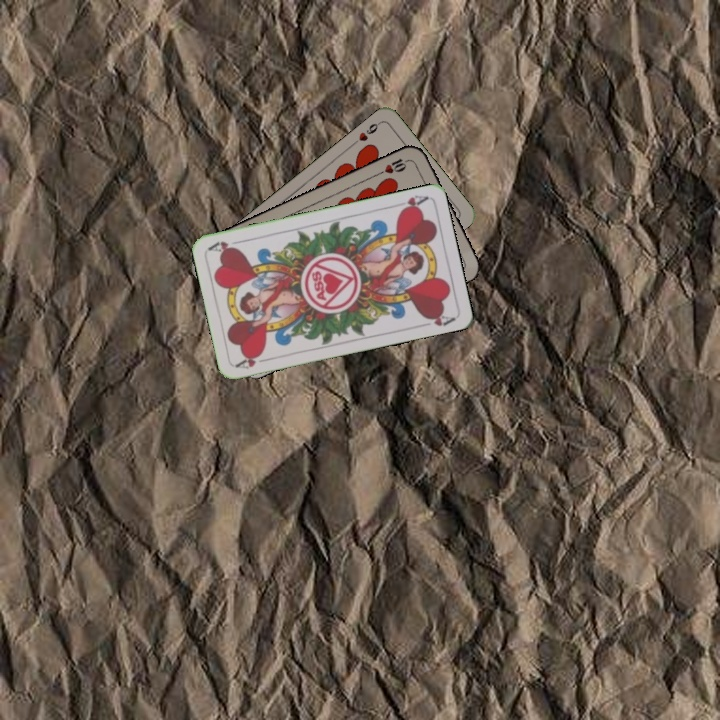H10: (375, 154, 414, 177)
H9: (349, 118, 384, 147)
HA: (232, 349, 273, 372), (395, 191, 430, 215)
